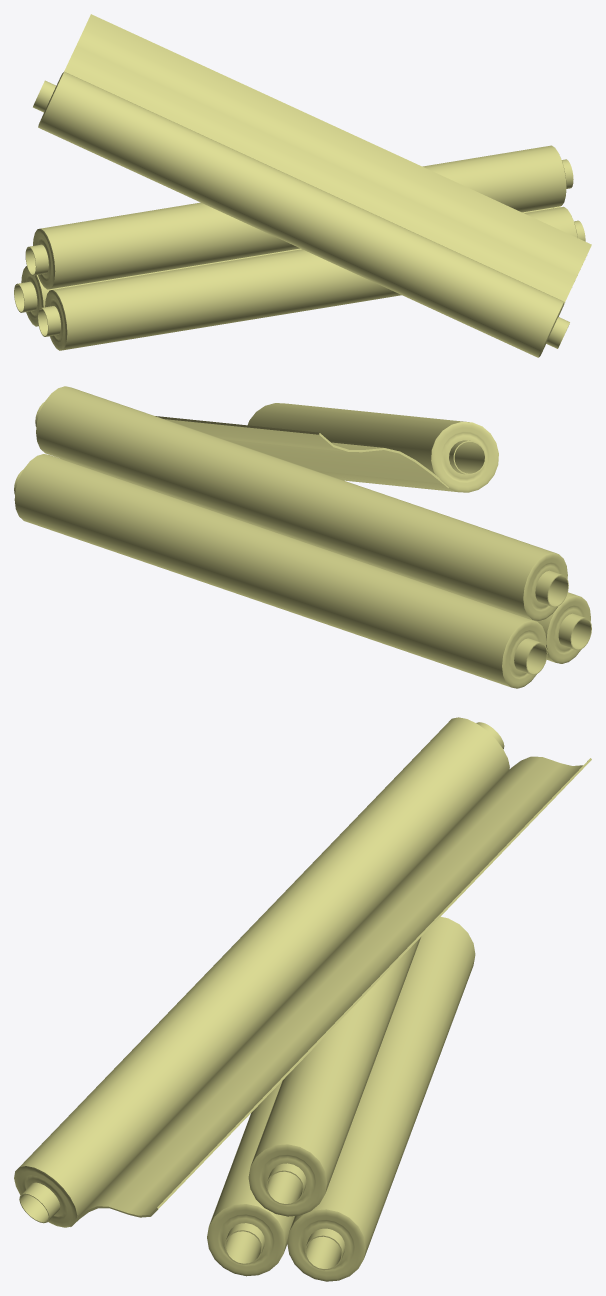
The model's file is ItamCloth.fbx.
3 views of the same model, one above another, from view 1: azimuth 30°, elevation 25°; view 2: azimuth 150°, elevation 25°; view 3: azimuth 270°, elevation 25° (orthographic). The views are drawn at different scales.
Visible parts, largest first — view 1: polySurface1, pCube1, polySurface2, polySurface4, polySurface3; view 2: polySurface3, polySurface4, polySurface1, pCube1, polySurface2; view 3: polySurface1, pCube1, polySurface3, polySurface4, polySurface2.
Part boxes in pixels (<box>): polySurface1: <box>33,71,569,357</box>; pCube1: <box>64,14,591,303</box>; polySurface2: <box>37,206,585,350</box>; polySurface4: <box>25,145,573,289</box>; polySurface3: <box>14,206,560,326</box>; polySurface3: <box>14,454,547,688</box>; polySurface4: <box>35,386,568,620</box>; polySurface1: <box>248,403,498,492</box>; pCube1: <box>155,416,448,488</box>; polySurface2: <box>63,459,591,663</box>; polySurface1: <box>14,717,509,1227</box>; pCube1: <box>70,756,591,1226</box>; polySurface3: <box>287,916,475,1281</box>; polySurface4: <box>248,937,420,1216</box>; polySurface2: <box>207,1081,294,1276</box>.
Bounding box in the file's own units: 12.79 × 5.99 × 9.89.
